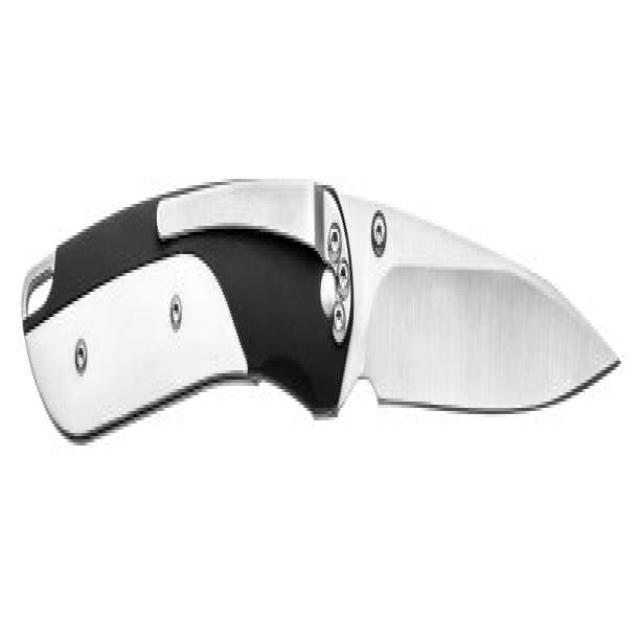knife: (14, 169, 626, 453)
